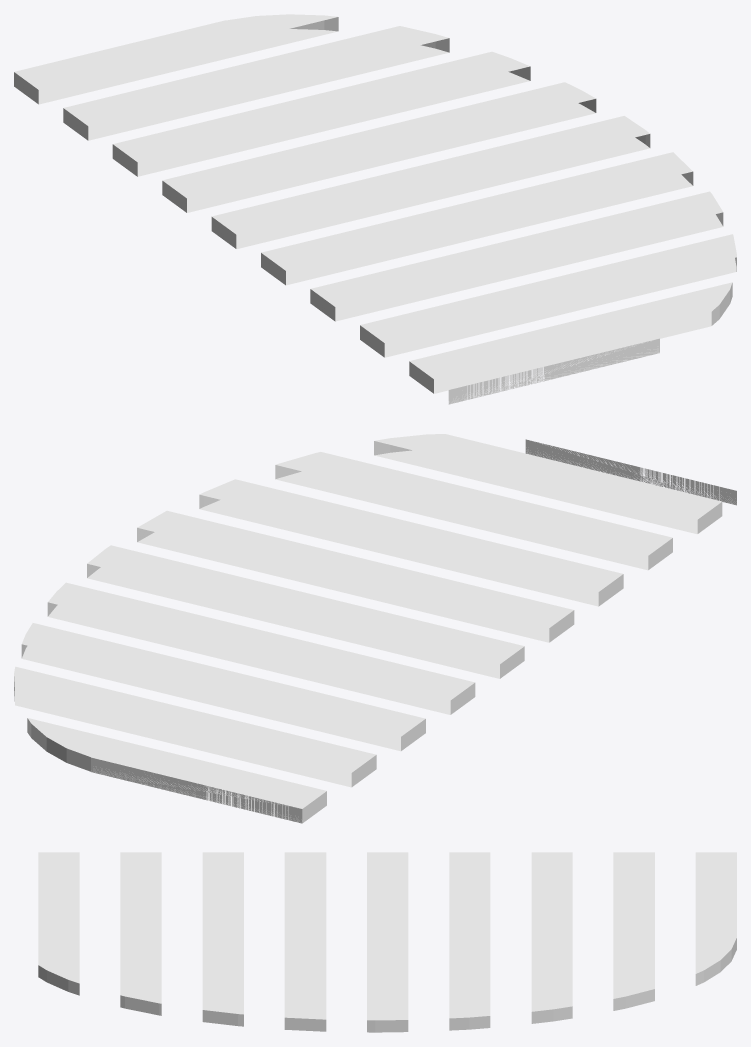
Rendered from door5.fbx.
The picture shows the model from 3 angles, top to bottom: view 1: azimuth 30°, elevation 25°; view 2: azimuth 150°, elevation 25°; view 3: azimuth 270°, elevation 25°; orthographic projection. The views are drawn at different scales.
Parts seen in each view (by area): view 1: Curve.004; view 2: Curve.004; view 3: Curve.004.
Part boxes in pixels (<box>): Curve.004: <box>14,14,736,404</box>; Curve.004: <box>14,434,736,823</box>; Curve.004: <box>38,852,736,1032</box>.
Bounding box in the file's own units: 15.52 × 0.5222 × 28.22.
